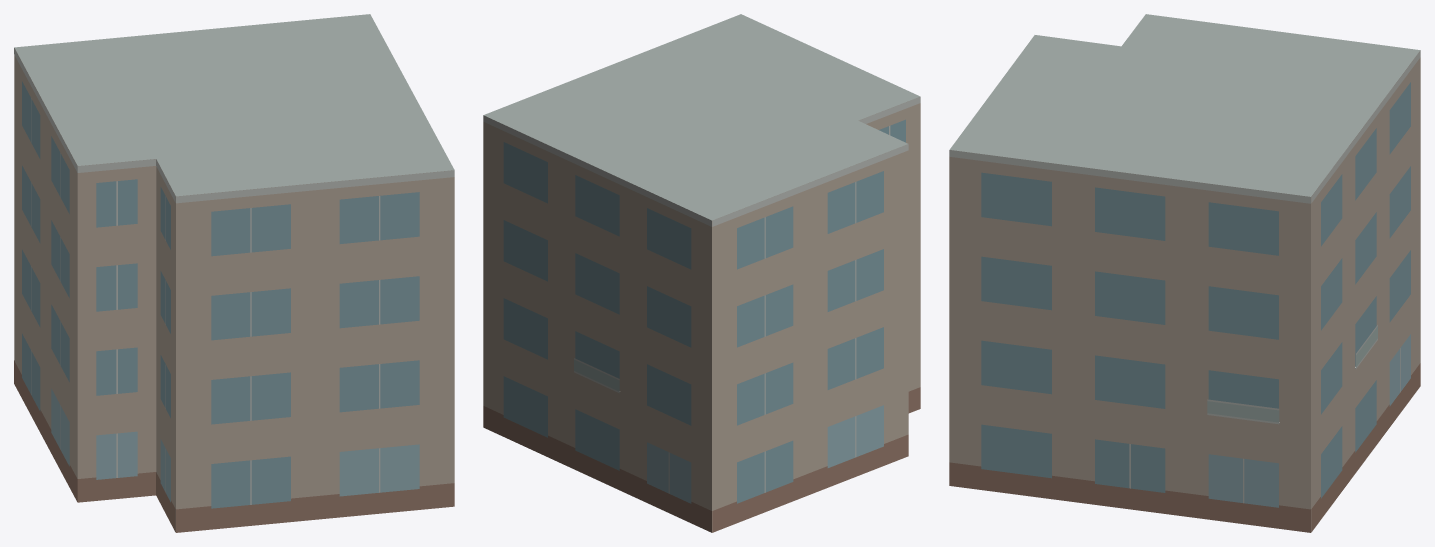
File: survey-upis-32804469.glb
3 views of the same model, side by side, from view 1: azimuth 30°, elevation 25°; view 2: azimuth 150°, elevation 25°; view 3: azimuth 270°, elevation 25° (orthographic). The views are drawn at different scales.
Visible parts, largest first — view 1: survey-upis-32804469.tmp; view 2: survey-upis-32804469.tmp; view 3: survey-upis-32804469.tmp.
Boxes of the visible parts, <box> form: survey-upis-32804469.tmp: <box>14,14,454,532</box>; survey-upis-32804469.tmp: <box>483,14,920,532</box>; survey-upis-32804469.tmp: <box>949,14,1420,532</box>.
Bounding box in the file's own units: 13.79 × 11.8 × 15.01.
